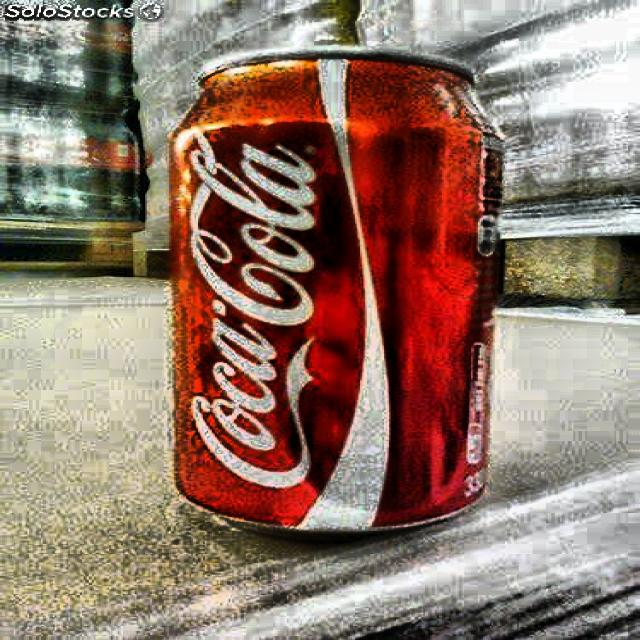Cans: (116, 52, 536, 558)
